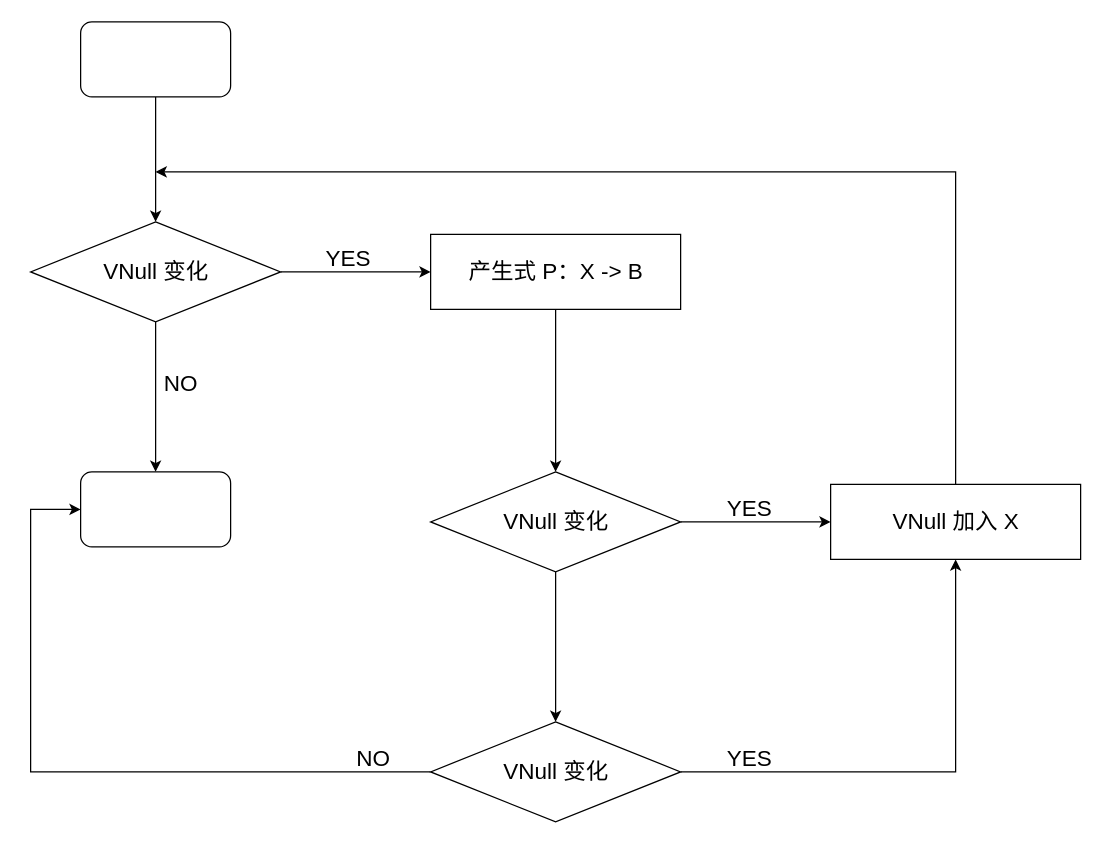
Image size: 1103x844. Some labels were removed from this diagram. The shapes that lost their labels are listed below. From the top down, each one's centre as x and y in pixels, then its label:
At (x=155, y=59): "开始".
At (x=155, y=509): "结束".
